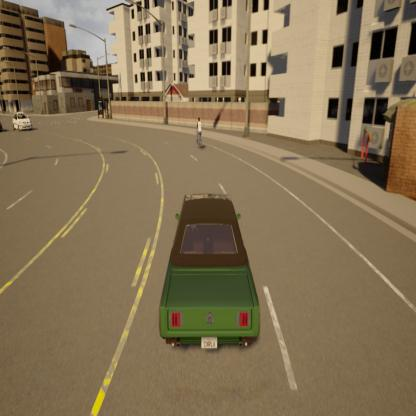Cars: (150, 180, 269, 371), (11, 108, 35, 134)
